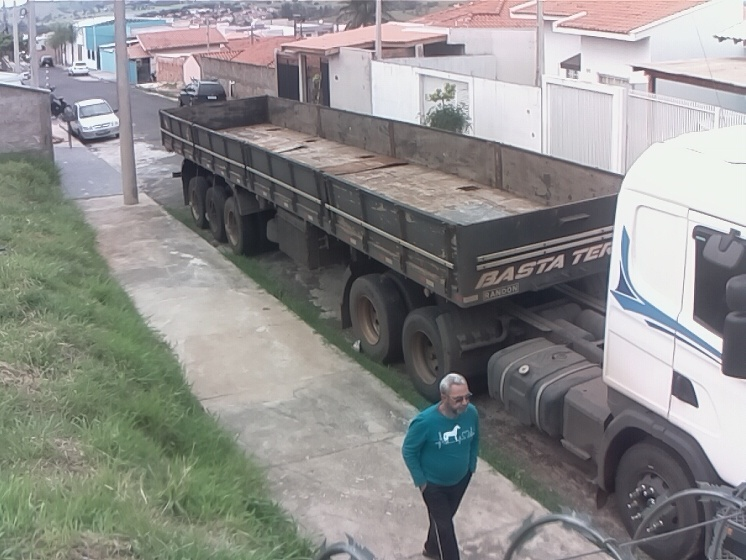person: (397, 370, 483, 560)
